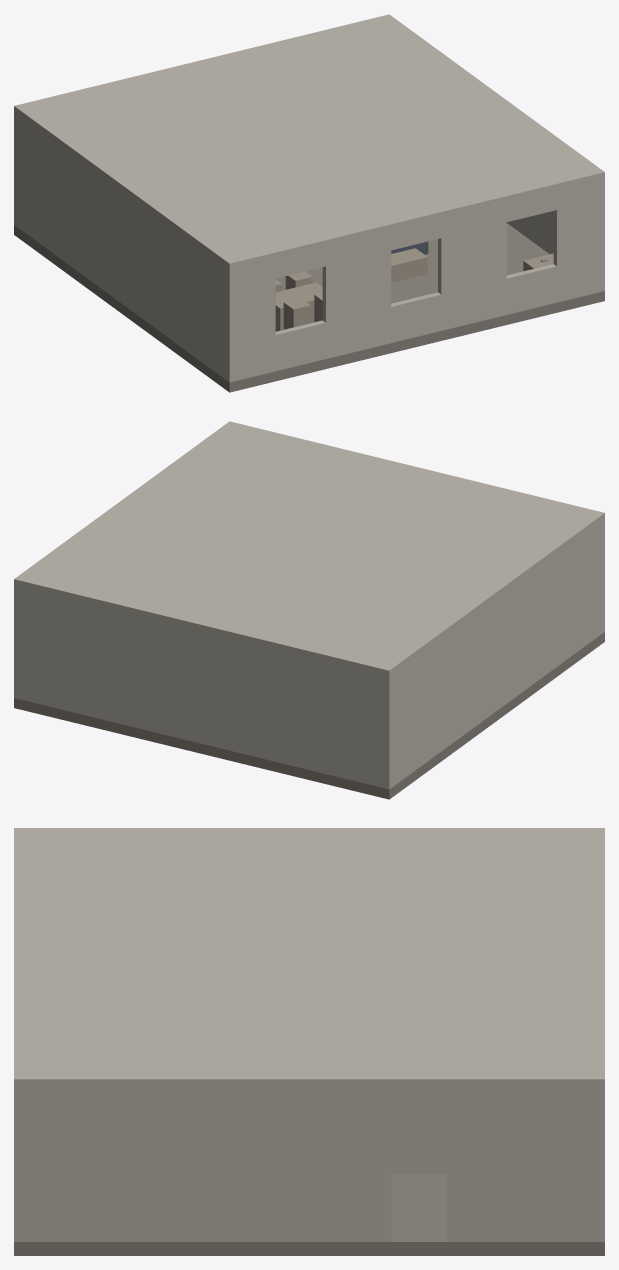
3 views of the same model, one above another, from view 1: azimuth 30°, elevation 25°; view 2: azimuth 150°, elevation 25°; view 3: azimuth 270°, elevation 25° (orthographic). The views are drawn at different scales.
Visible parts, largest first — view 1: apartment.ceiling, apartment.wall.west.end, apartment.floor, apartment.wall.south.s1, apartment.wall.south.s2, apartment.wall.south.end, apartment.wall.south.s0, apartment.wall.south.b2, apartment.wall.south.b0, apartment.wall.south.b1, apartment.wall.east.end, apartment.living.coffee-table (+5 smaller); view 2: apartment.ceiling, apartment.wall.north.end, apartment.wall.west.end, apartment.floor; view 3: apartment.ceiling, apartment.wall.east.end, apartment.wall.east.s0, apartment.floor, apartment.partition.p3.end, apartment.wall.east.t0, apartment.wall.north.end, apartment.wall.south.end.
Part boxes in pixels (<box>): apartment.ceiling: <box>14,14,604,273</box>; apartment.wall.west.end: <box>14,116,235,382</box>; apartment.floor: <box>14,223,604,392</box>; apartment.wall.south.s1: <box>322,234,391,358</box>; apartment.wall.south.s2: <box>438,206,506,330</box>; apartment.wall.south.end: <box>553,183,600,302</box>; apartment.wall.south.s0: <box>235,262,275,380</box>; apartment.wall.south.b2: <box>506,264,556,314</box>; apartment.wall.south.b0: <box>275,320,325,370</box>; apartment.wall.south.b1: <box>391,292,441,342</box>; apartment.wall.east.end: <box>506,182,604,291</box>; apartment.living.coffee-table: <box>391,248,427,282</box>; apartment.ceiling: <box>14,421,604,680</box>; apartment.wall.north.end: <box>18,590,383,787</box>; apartment.wall.west.end: <box>383,523,604,789</box>; apartment.floor: <box>14,632,604,799</box>; apartment.ceiling: <box>14,828,604,1092</box>; apartment.wall.east.end: <box>23,1093,391,1241</box>; apartment.wall.east.s0: <box>446,1093,595,1241</box>; apartment.floor: <box>14,1174,604,1255</box>; apartment.partition.p3.end: <box>391,1126,446,1173</box>; apartment.wall.east.t0: <box>391,1093,446,1125</box>; apartment.wall.north.end: <box>596,1093,604,1241</box>; apartment.wall.south.end: <box>14,1093,22,1241</box>.
Size of the model in its own units: 9.75 by 3.2 by 9.7.
